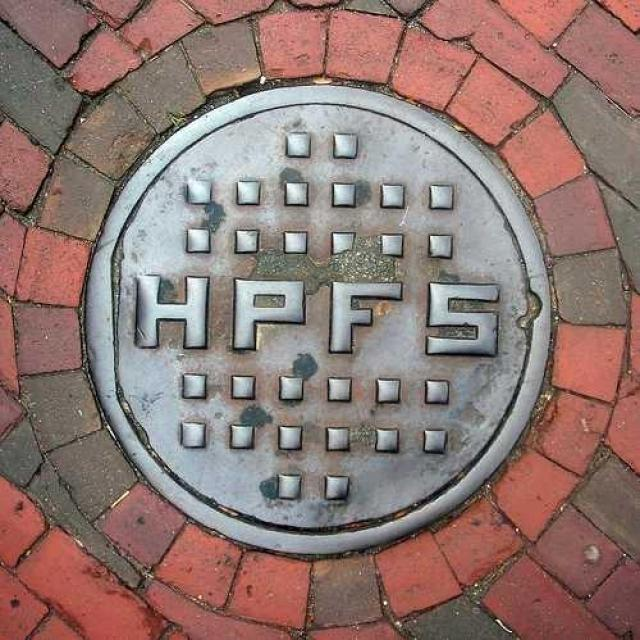manhole: (85, 84, 551, 554)
